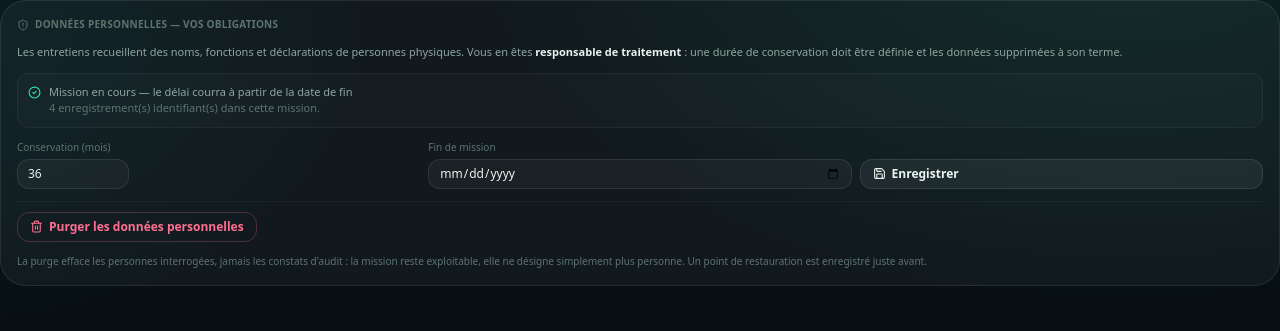
it: RgpdPanel › refuse une durée hors bornes sans appeler l'API
The width and height of the screenshot is (1280, 331).
Replace the text in the number field named "Durée de conservation en mois" with "999" at (73, 174), box [17,158,129,188]
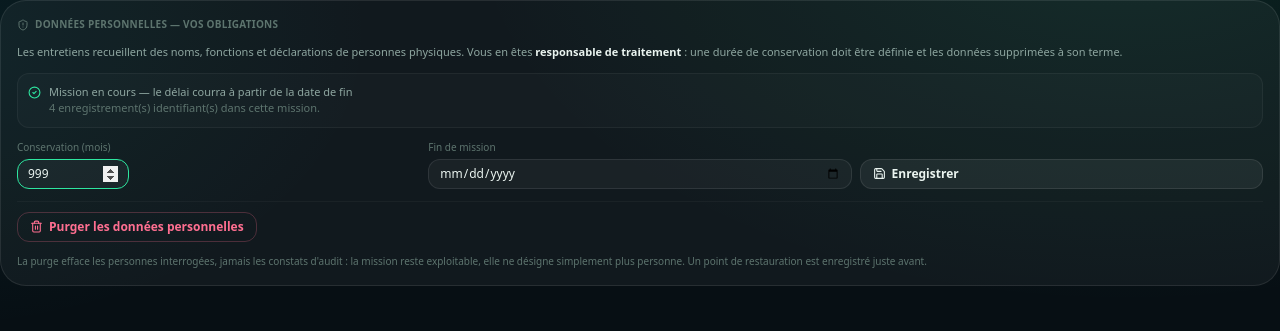
Click the button "Enregistrer" at (925, 173), box [860,158,1263,188]
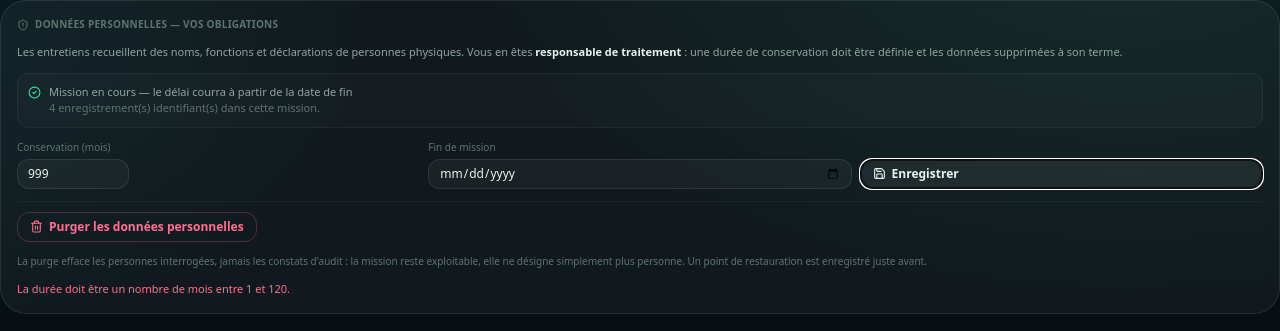
Expected: the text "La durée doit être un nombre de mois entre 1 et 120." is shown, [17,280,290,296]
